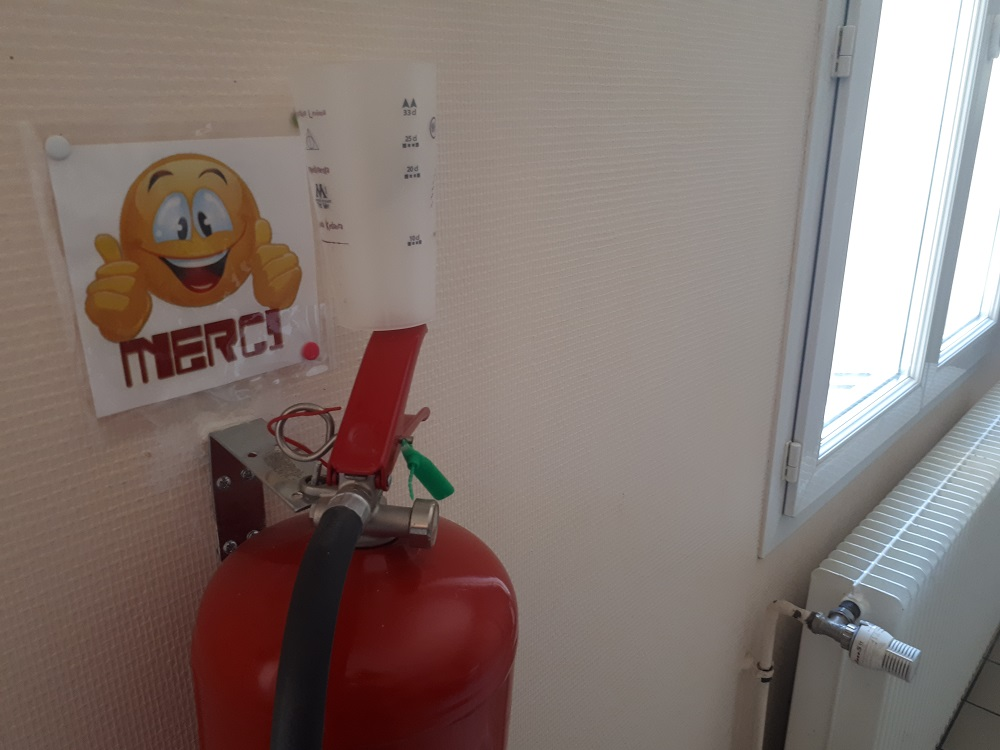ecocup: (288, 54, 441, 335)
